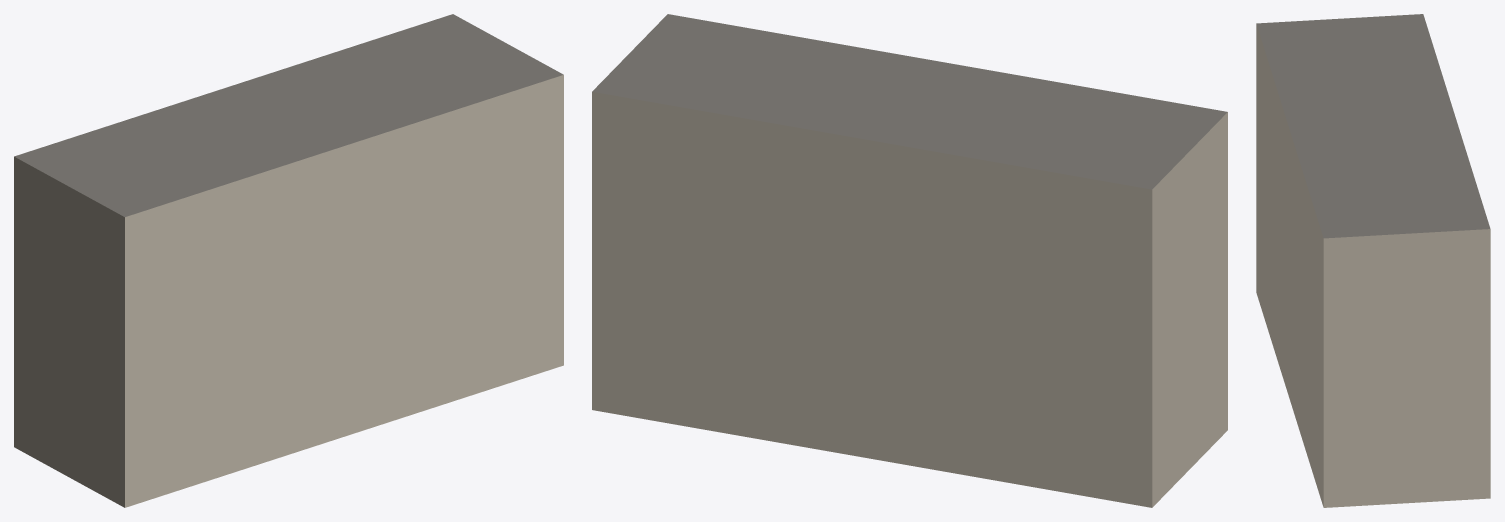
3 views of the same model, side by side, from view 1: azimuth 30°, elevation 25°; view 2: azimuth 150°, elevation 25°; view 3: azimuth 270°, elevation 25° (orthographic). The views are drawn at different scales.
Visible parts, largest first — view 1: HP-w446936777; view 2: HP-w446936777; view 3: HP-w446936777.
Boxes of the visible parts, bbox=[...] form: HP-w446936777: bbox=[14, 14, 563, 507]; HP-w446936777: bbox=[592, 14, 1227, 507]; HP-w446936777: bbox=[1256, 14, 1490, 507].
Bounding box in the file's own units: 32.15 × 18 × 14.17.
